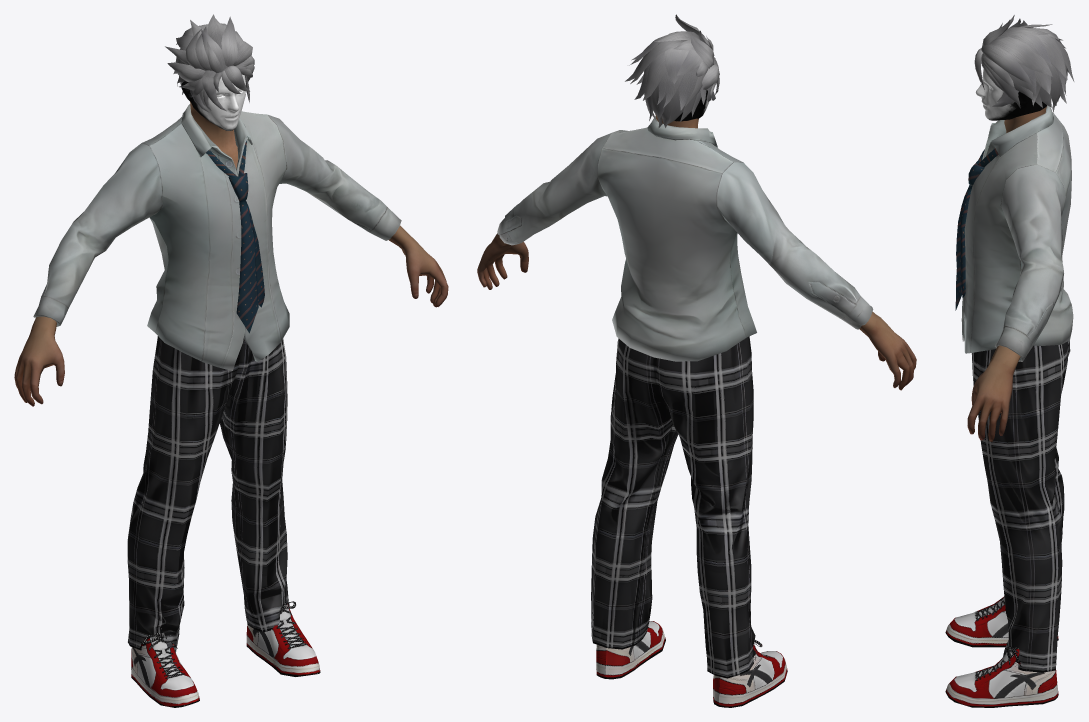
File: methat bee boy 2.glb
3 renders of one model, left to right at view 1: azimuth 30°, elevation 25°; view 2: azimuth 150°, elevation 25°; view 3: azimuth 270°, elevation 25°, orthographic.
Visible parts, largest first — view 1: methat bee boy 2; view 2: methat bee boy 2; view 3: methat bee boy 2.
Boxes of the visible parts, x1,y1,x2,y2 form: methat bee boy 2: (14, 14, 448, 707); methat bee boy 2: (477, 14, 916, 707); methat bee boy 2: (945, 15, 1074, 707).
Bounding box in the file's own units: 0.632 × 0.9309 × 0.1663.
7 materials, 7 textured.
